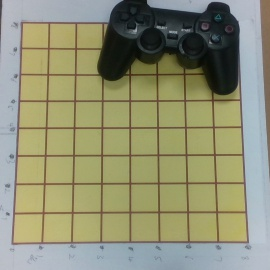remote: (96, 0, 240, 96)
